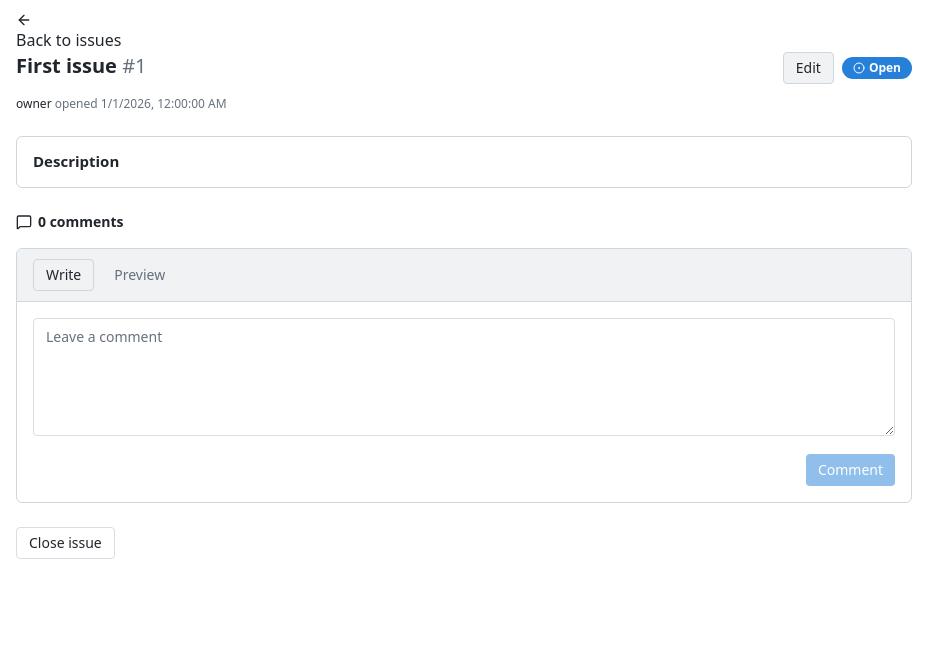
Scenario: Markdown descriptions and comments › displays backend HTML and edits raw Markdown for a issue
Check: the text "**Description**" is not shown
Click the button with test id "edit-issue". click: (808, 68)
box: [783,52,834,84]
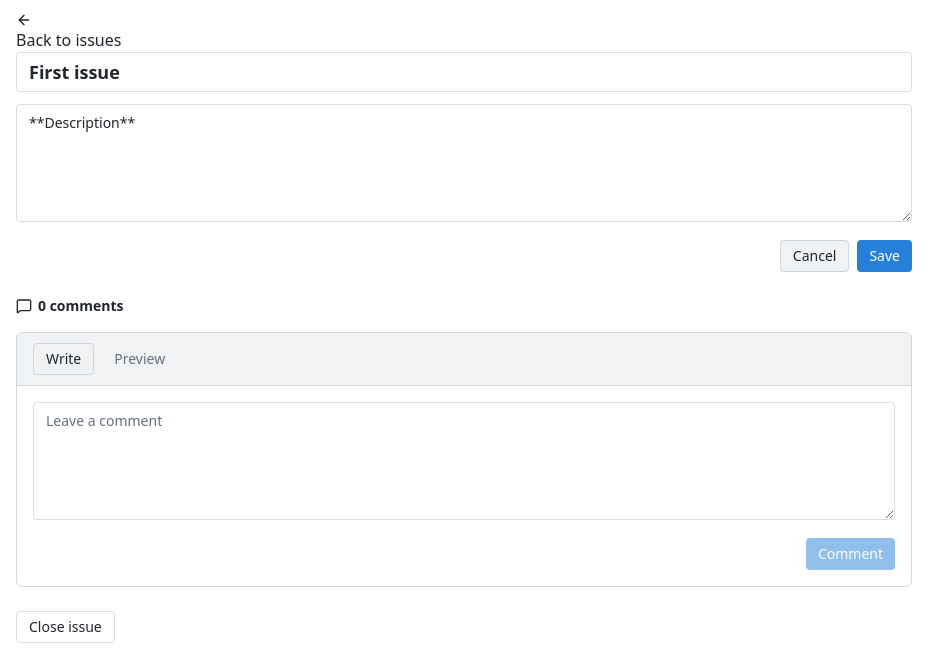
Check: the text box with test id "edit-issue-body" holds "**Description**", box [16,104,912,222]
